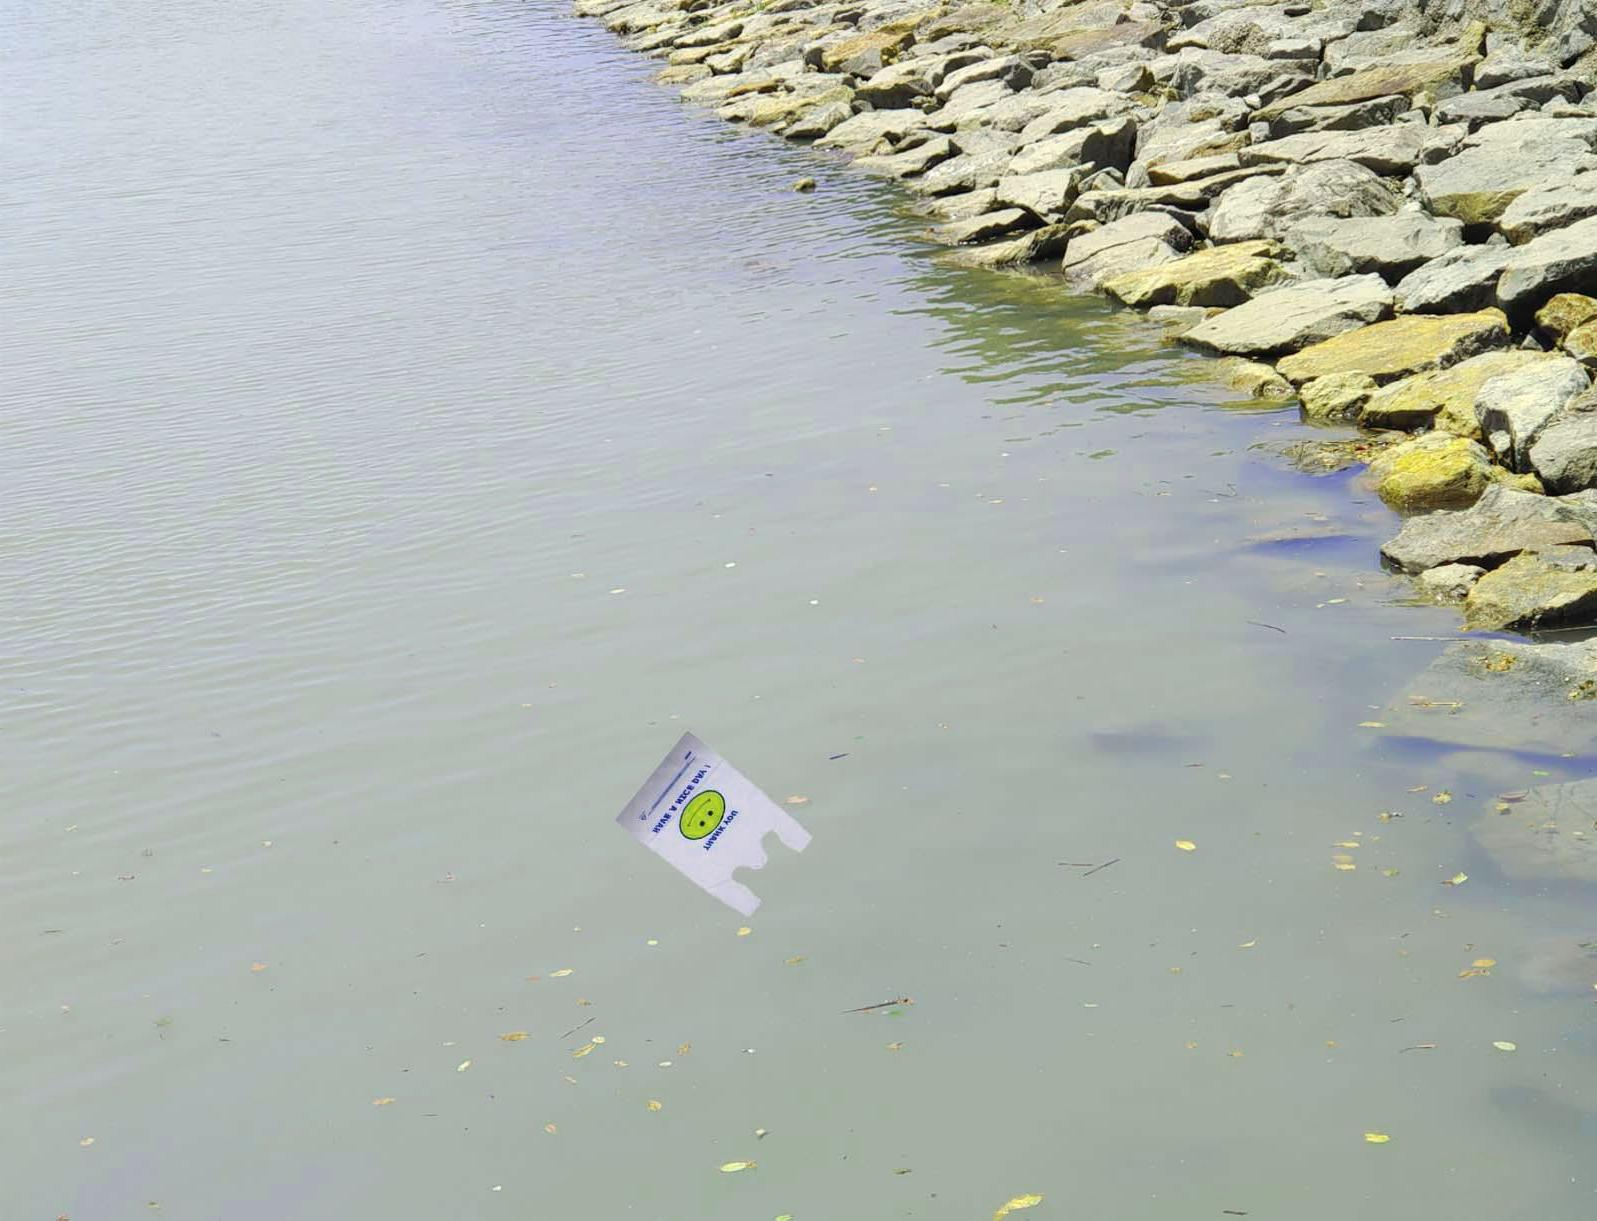Trash: (614, 721, 824, 917)
